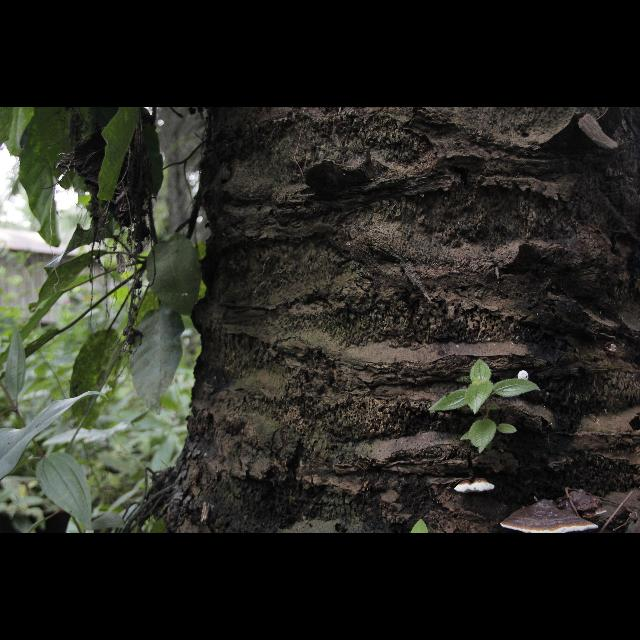ganoderma: (501, 500, 599, 534), (556, 491, 608, 520), (456, 479, 497, 495)
primordium: (518, 372, 530, 383)
